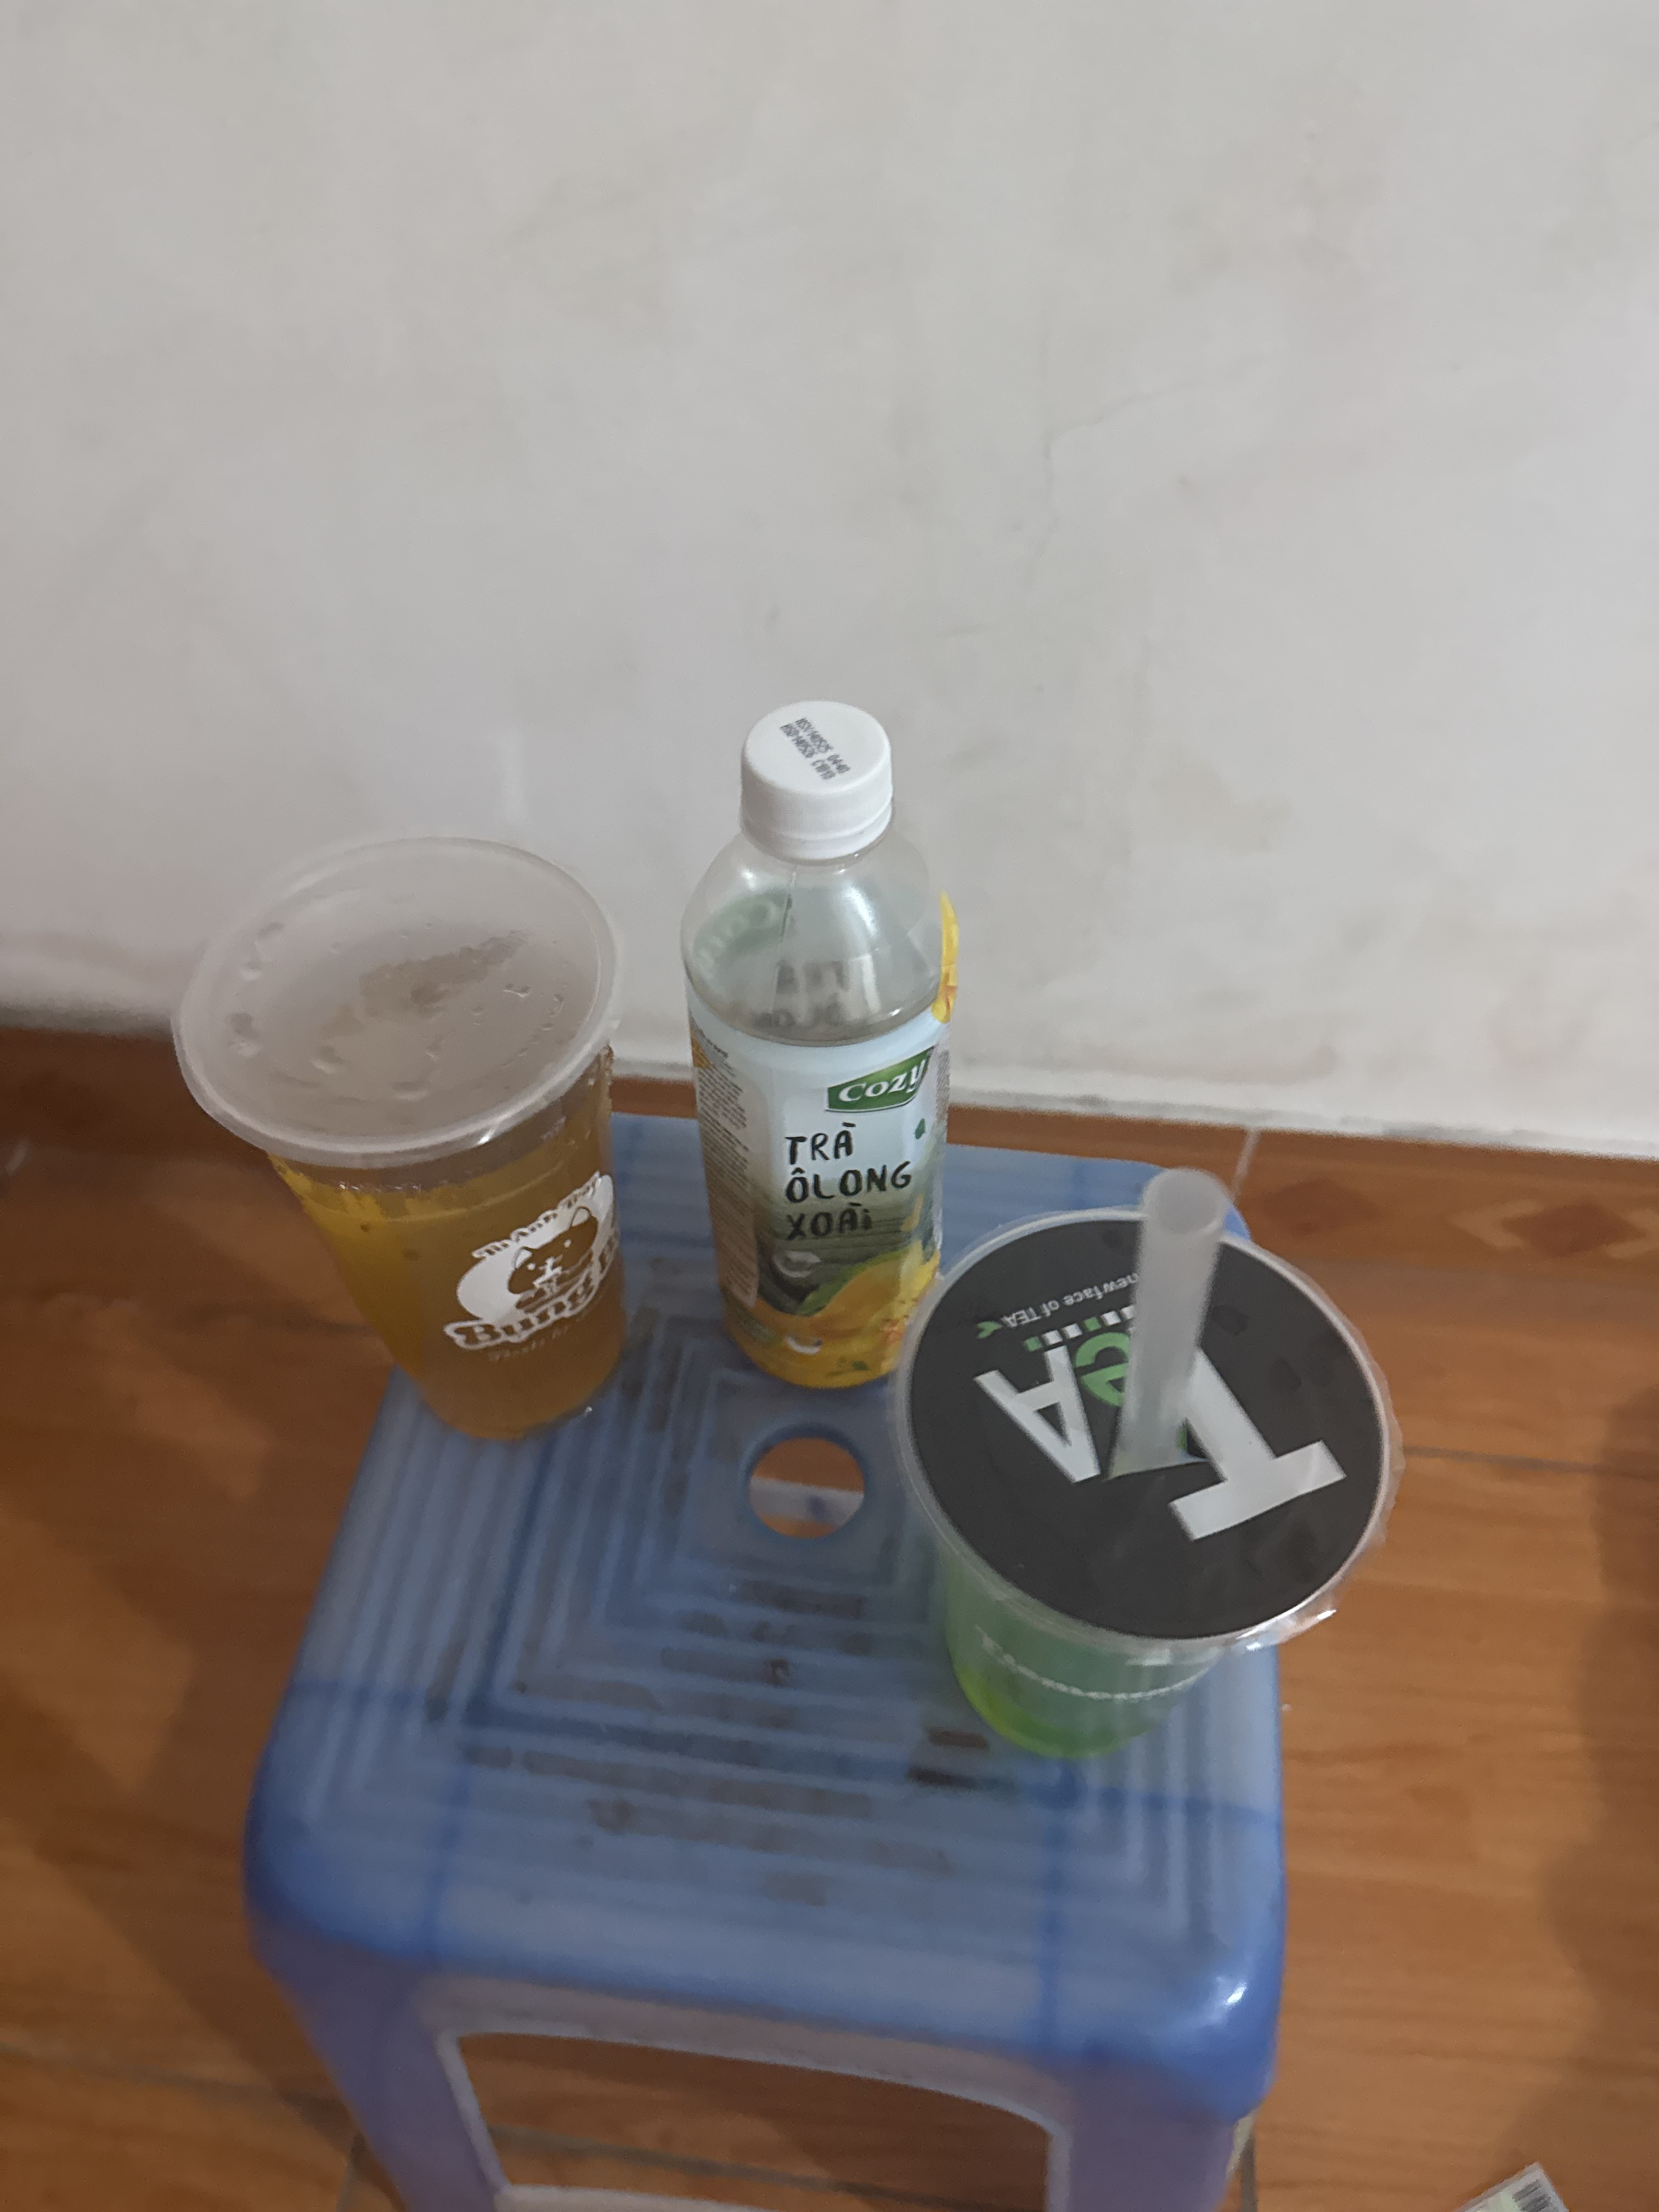bottle: (652, 697, 965, 1400)
cup: (882, 1205, 1415, 1794), (166, 833, 659, 1454)
